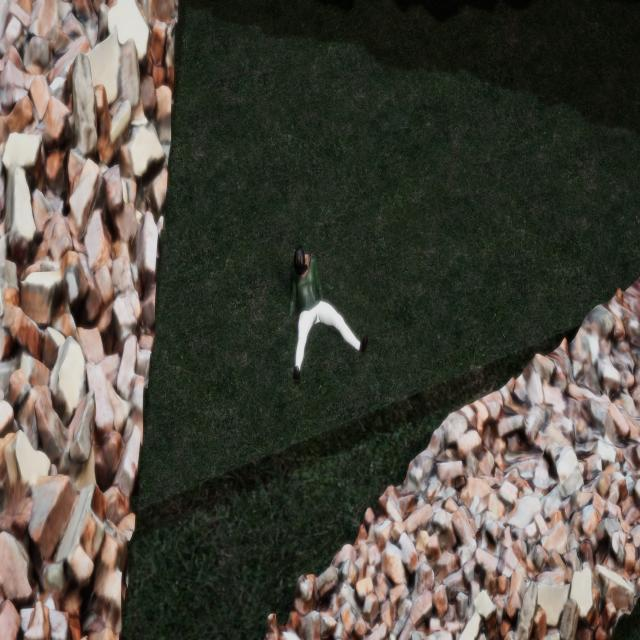Human: (274, 238, 370, 386)
